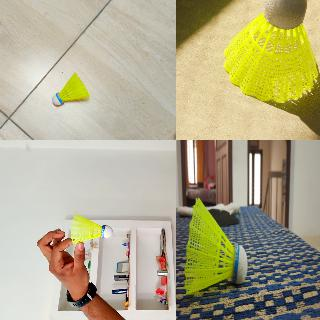shuttlecock: (222, 0, 318, 104), (184, 198, 247, 294), (51, 72, 89, 108), (70, 214, 112, 242)
